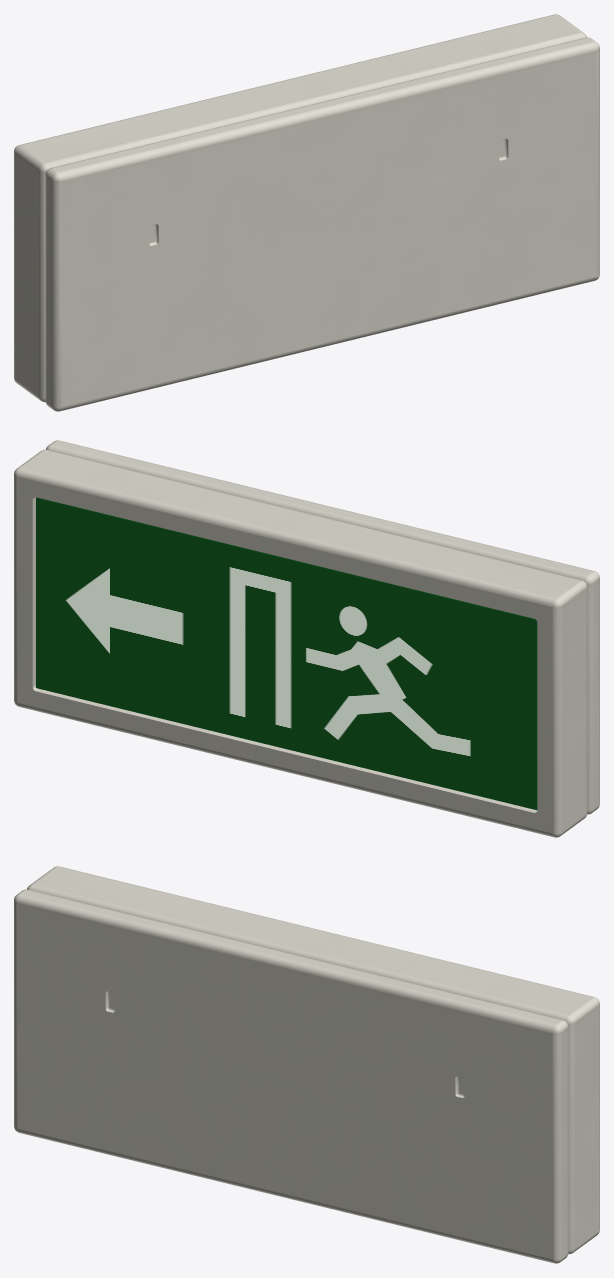
Rendered from exit_sign_lightbox.glb.
3 views of the same model, one above another, from view 1: azimuth 30°, elevation 25°; view 2: azimuth 150°, elevation 25°; view 3: azimuth 330°, elevation 25° (orthographic).
Visible parts, largest first — view 1: housing; view 2: face, housing; view 3: housing.
Part boxes in pixels (x1,y1,x2,y2): housing: [14, 14, 599, 411]; face: [36, 497, 537, 810]; housing: [14, 440, 599, 837]; housing: [14, 866, 599, 1263].
Size of the model in its own units: 0.36 by 0.15 by 0.05.
3 materials, 2 textured.
